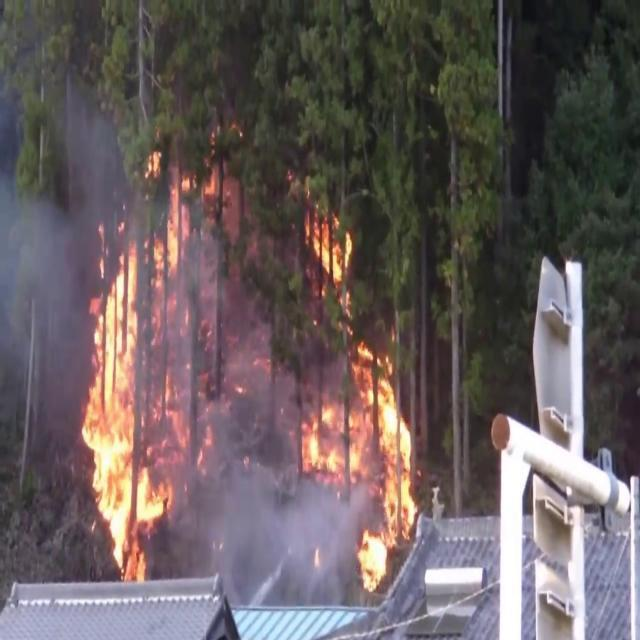Fire: (294, 213, 421, 590), (74, 194, 196, 576)
Smoke: (180, 299, 350, 584), (0, 77, 114, 404)
